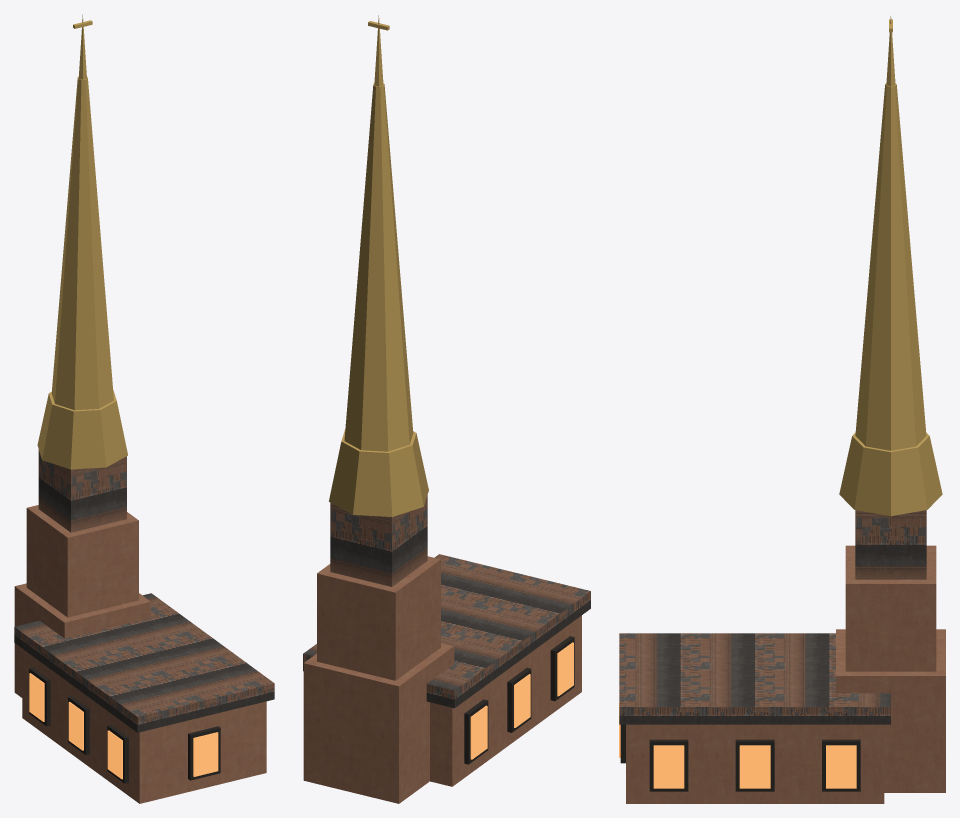
Rendered from fortress.glb.
3 renders of one model, left to right at view 1: azimuth 30°, elevation 25°; view 2: azimuth 150°, elevation 25°; view 3: azimuth 270°, elevation 25°, orthographic. The views are drawn at different scales.
Visible parts, largest first — view 1: fortress; view 2: fortress; view 3: fortress.
Boxes of the visible parts, bbox=[...] form: fortress: bbox=[14, 14, 274, 803]; fortress: bbox=[303, 15, 590, 803]; fortress: bbox=[619, 16, 945, 803].
Bounding box in the file's own units: 5.42 × 25.8 × 10.11.
5 materials, 2 textured.
